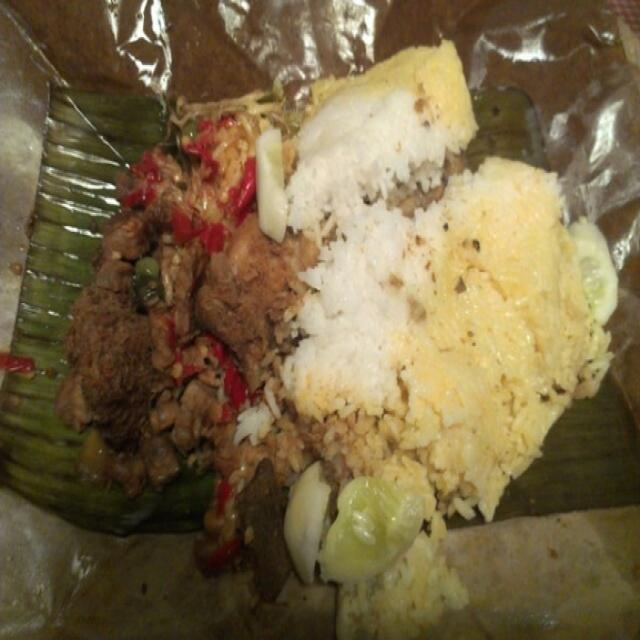米饭主食: (30, 13, 613, 621)
